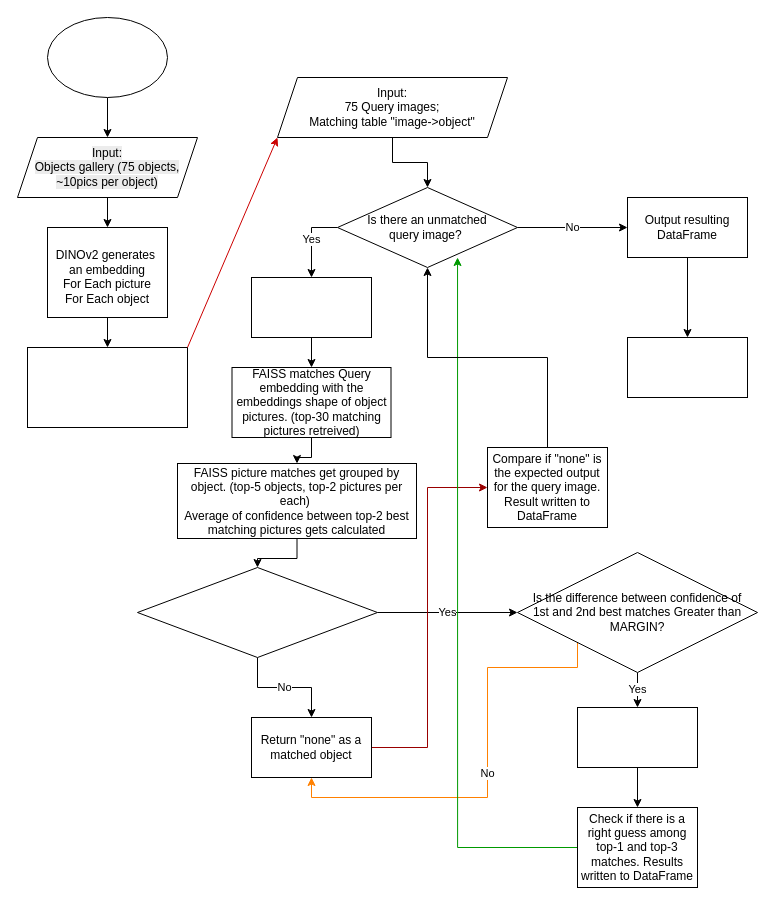
Some shapes in this 775 by 905 pixel diagram are drawn without their labels. Each missing label, with the box of its shape:
Calculate average statistics based on the whole QuerySet: (626, 336, 748, 398)
DINOv2 generates an embedding for the query image: (250, 276, 372, 338)
Each generated embedding gets put into FAISS shape: (26, 346, 188, 428)
Is the calculated confidence level Higher than MIN_THRESHOLD?: (136, 566, 378, 658)
Return top-5 best matched objects: (576, 706, 698, 768)
Start: (46, 16, 168, 98)
